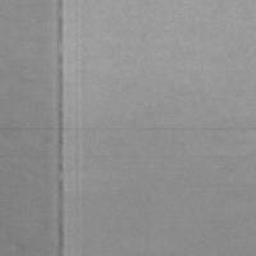Welding line: (54, 0, 65, 256)
